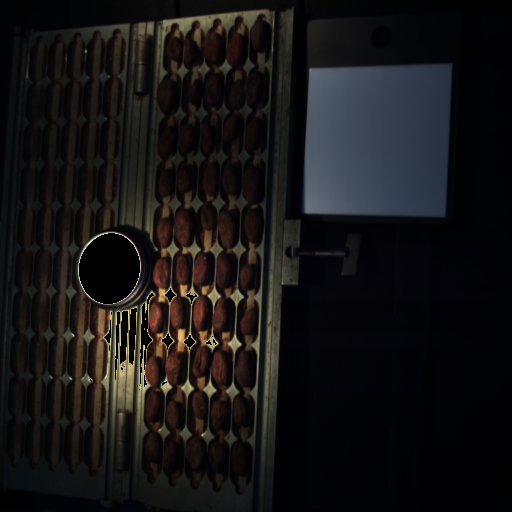bueno: (218, 211, 239, 248), (166, 351, 189, 384), (251, 19, 270, 53), (170, 297, 190, 329), (187, 438, 207, 470), (213, 299, 230, 332), (144, 431, 162, 461), (239, 308, 258, 335), (212, 398, 228, 430), (185, 37, 200, 66), (156, 221, 172, 248), (222, 115, 239, 140), (197, 205, 216, 227)
malo: (247, 71, 269, 109), (235, 351, 254, 388), (193, 253, 213, 286), (193, 297, 210, 330), (245, 210, 262, 242), (229, 80, 245, 109), (174, 255, 190, 284), (165, 401, 182, 427)
parcial: (216, 253, 237, 288), (203, 32, 225, 65), (174, 210, 193, 246), (231, 443, 253, 474), (212, 351, 232, 384), (242, 169, 262, 201), (227, 33, 246, 65), (204, 73, 223, 105), (145, 355, 164, 387), (192, 346, 211, 378), (149, 301, 166, 334), (245, 119, 263, 149), (203, 161, 219, 194), (153, 257, 170, 288), (159, 80, 176, 110), (158, 128, 176, 156), (223, 164, 239, 195), (145, 391, 161, 422), (209, 444, 227, 470), (192, 392, 209, 419), (177, 125, 195, 149), (200, 123, 215, 151), (234, 397, 248, 425), (159, 171, 174, 197), (179, 166, 194, 192), (164, 442, 179, 468), (166, 38, 182, 61), (185, 80, 201, 102), (240, 266, 254, 290)
